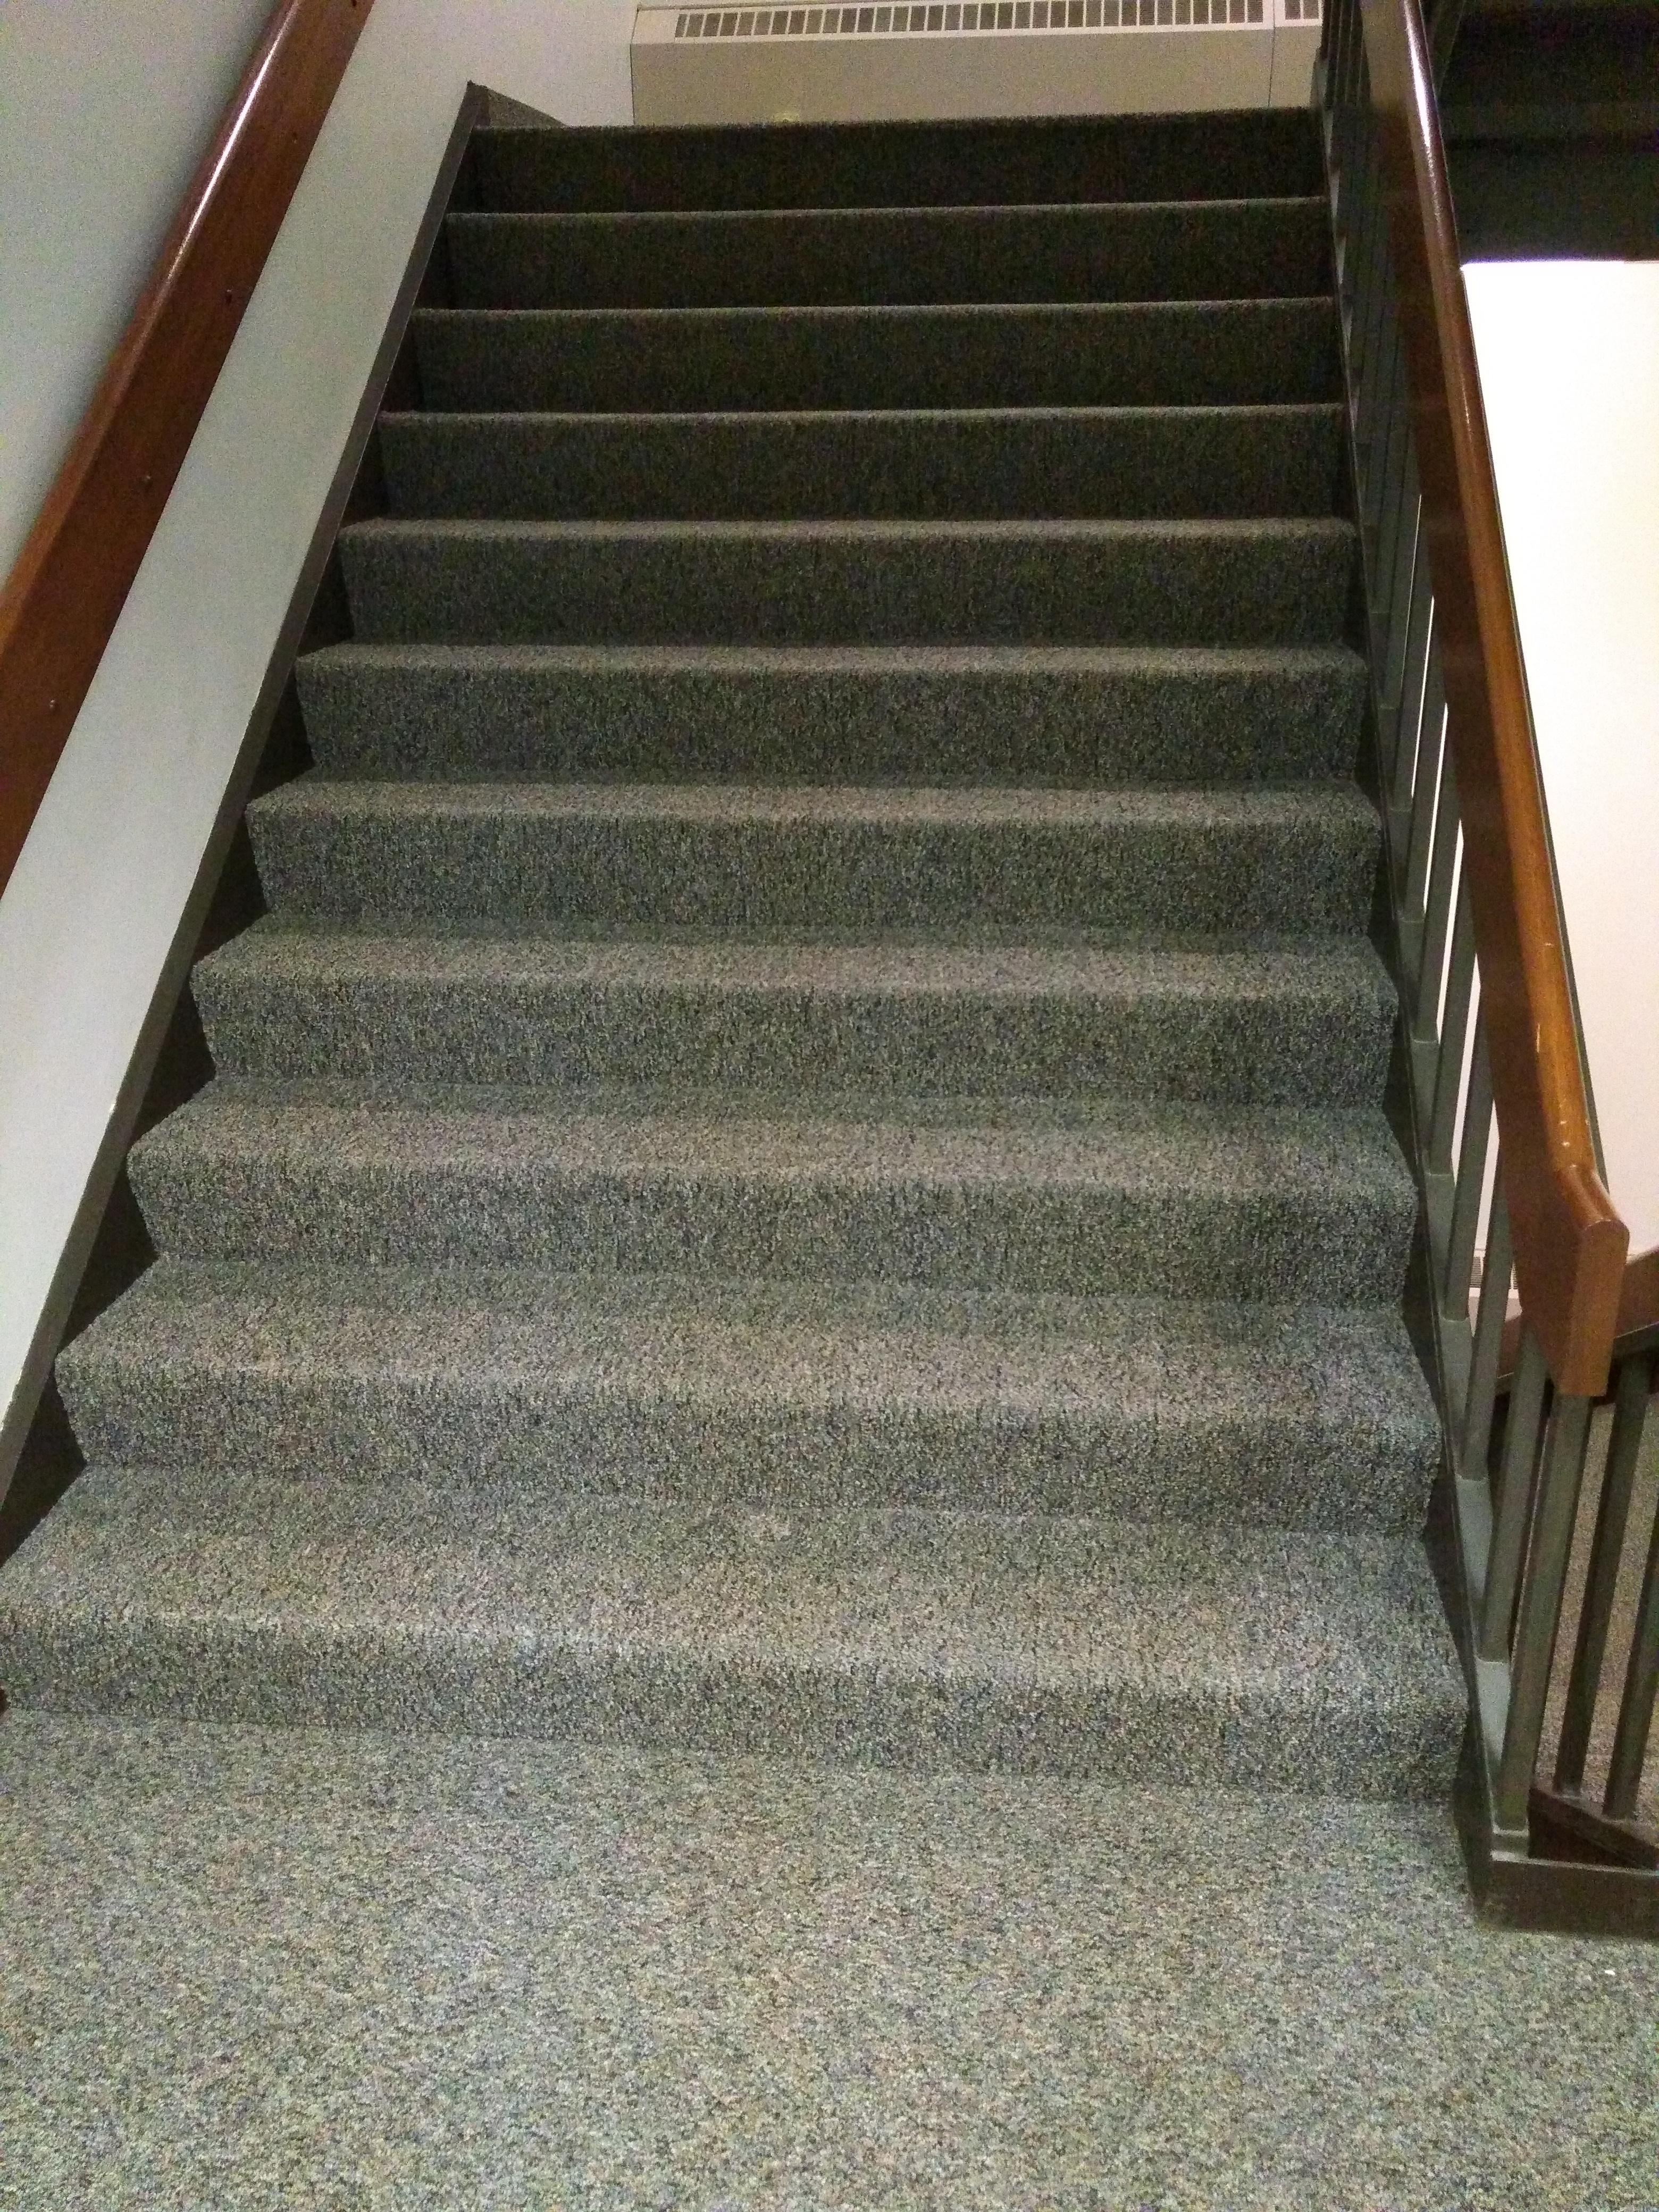stairs_up: (5, 138, 1492, 1820)
